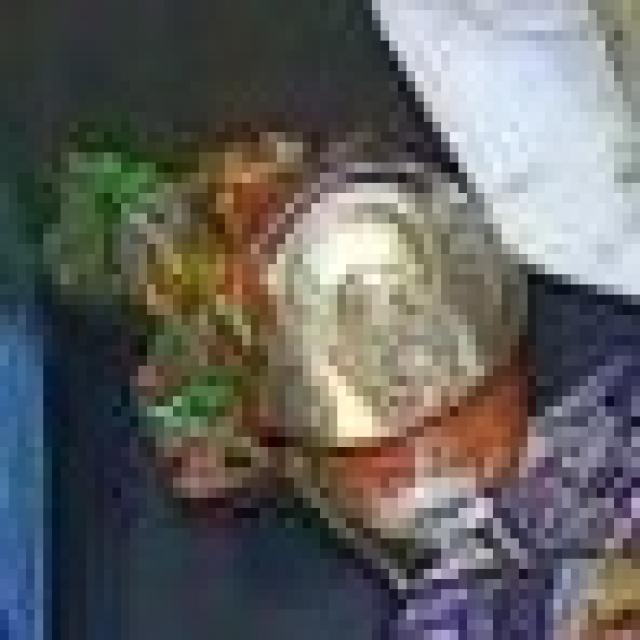litter: (241, 106, 548, 568)
